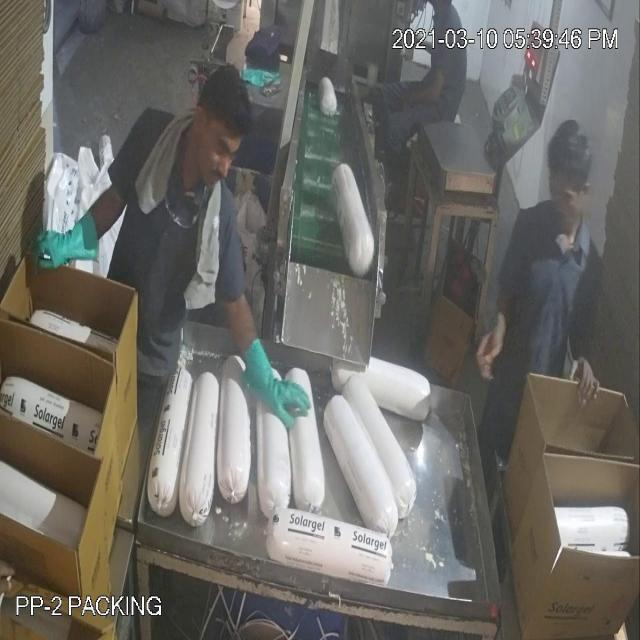Gloves: (46, 50, 582, 382)
